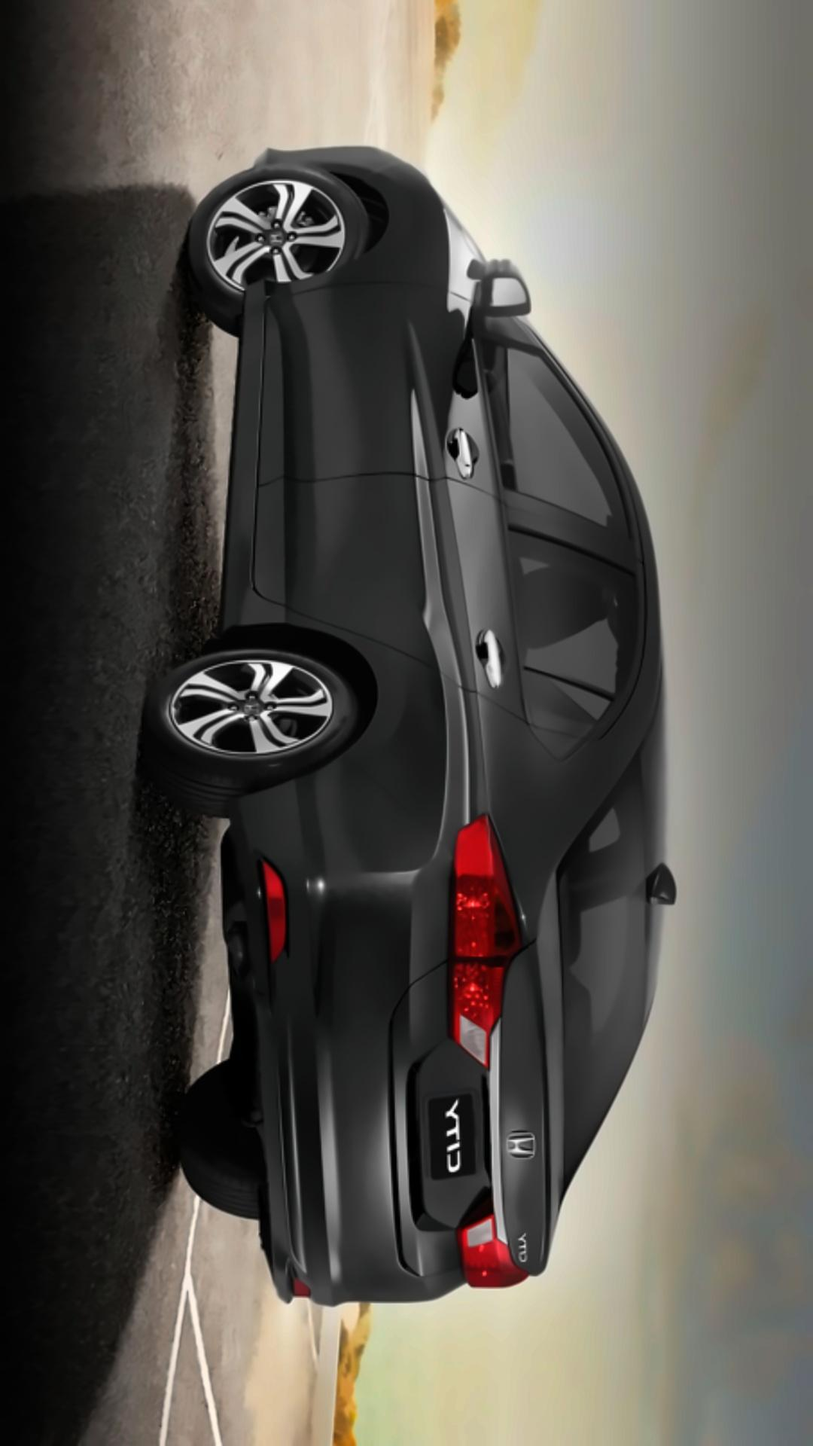Car boot: (362, 829, 578, 1311)
Fender - -F-L-: (225, 146, 529, 361)
Fender - -R-L-: (207, 590, 638, 894)
Passenger-s door - -F-L-: (199, 284, 692, 546)
Passenger-s door - -R-L-: (196, 470, 661, 760)
Rear bumper: (188, 756, 422, 1311)
Rear light - -L-: (437, 809, 531, 1082)
Rear light - -R-: (449, 1208, 527, 1291)
Side bumper - -L-: (191, 281, 335, 651)
Side mirror - -L-: (457, 254, 538, 356)
